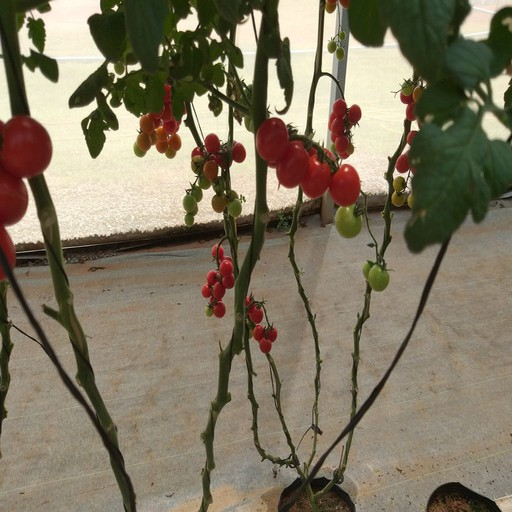mixed tomato bunch: (184, 134, 245, 222), (135, 83, 188, 157)
red tomato bunch: (1, 115, 52, 290), (255, 120, 361, 204), (394, 79, 428, 207), (203, 242, 234, 316), (242, 296, 278, 354), (329, 99, 359, 160)
